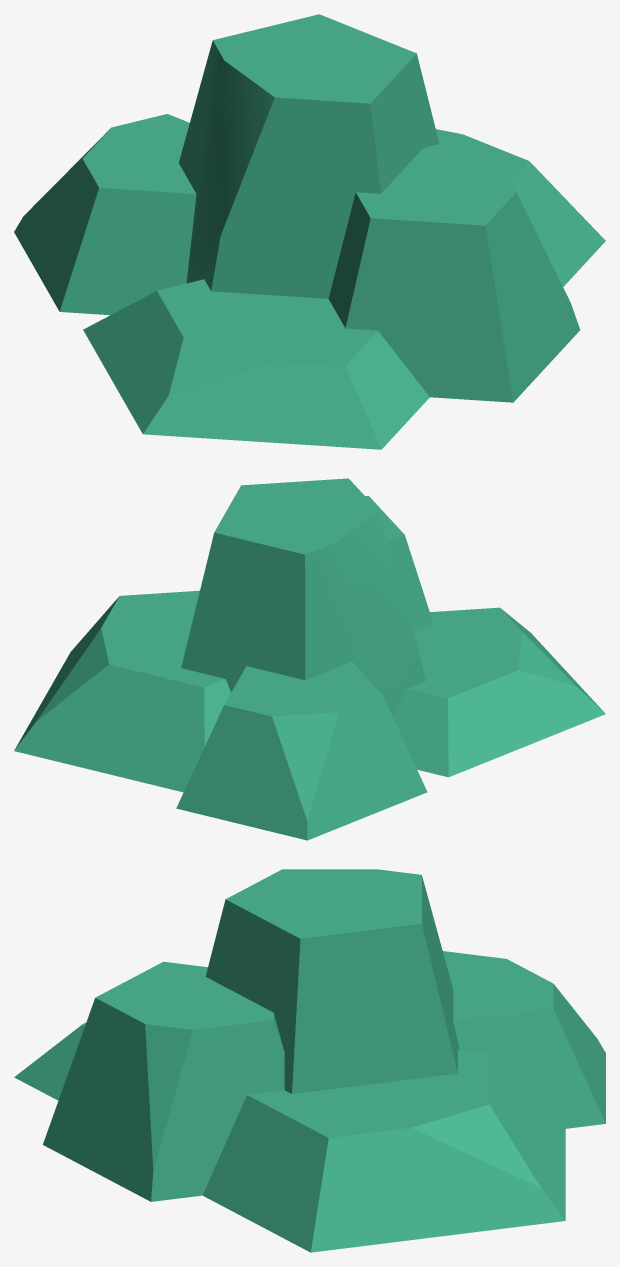
File: detail_rocksLarge.fbx
The picture shows the model from 3 angles, top to bottom: view 1: azimuth 30°, elevation 25°; view 2: azimuth 150°, elevation 25°; view 3: azimuth 270°, elevation 25°; orthographic projection. The views are drawn at different scales.
Parts seen in each view (by area): view 1: detail_rocksLarge; view 2: detail_rocksLarge; view 3: detail_rocksLarge.
Part boxes in pixels (<box>): detail_rocksLarge: <box>14,14,605,449</box>; detail_rocksLarge: <box>14,478,605,840</box>; detail_rocksLarge: <box>14,869,605,1252</box>.
Size of the model in its own units: 10 by 4.19 by 10.
